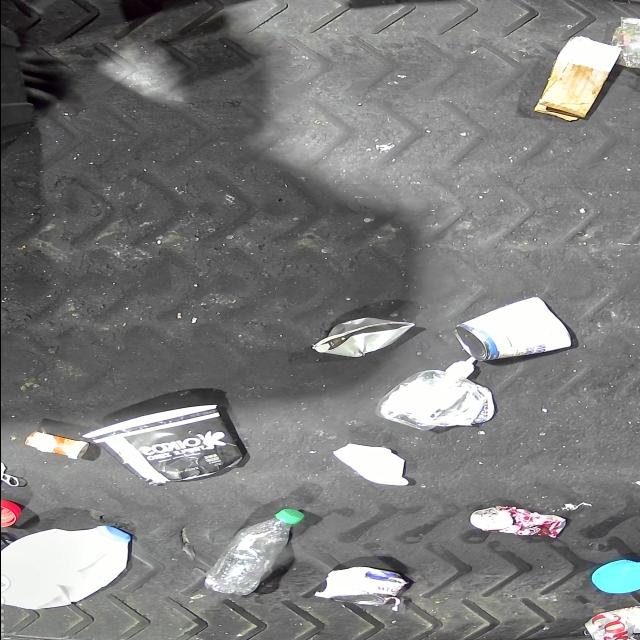can: (454, 296, 574, 362), (310, 317, 414, 359), (469, 506, 567, 540), (322, 567, 406, 604), (581, 606, 640, 640)
milk_jug: (0, 526, 130, 610)
plastic_bottle: (202, 508, 304, 594)
